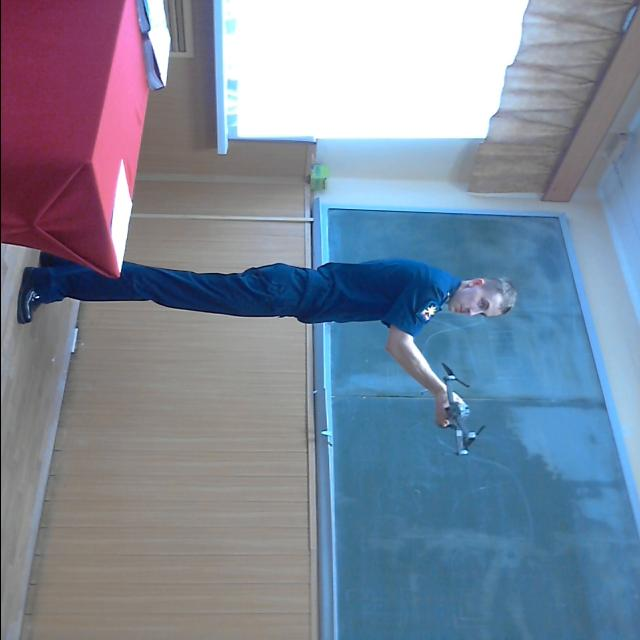drone: (426, 356, 504, 472)
